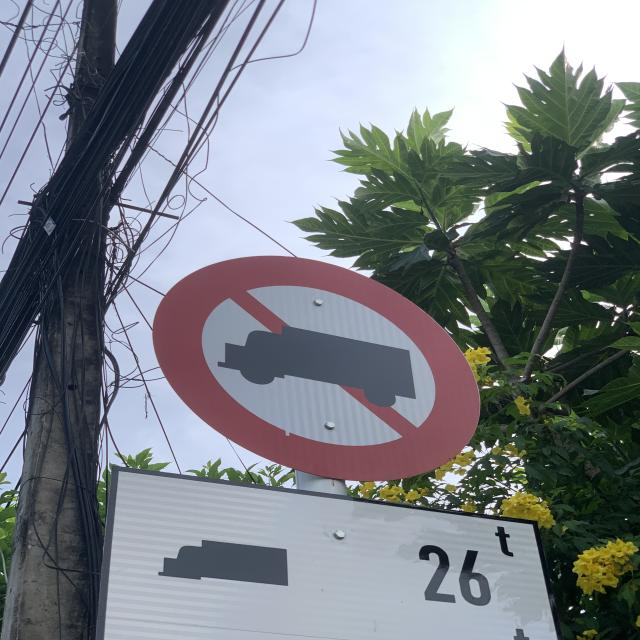Cam_Xe_Tai: (154, 255, 481, 481)
